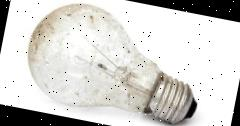lightbulb: (18, 0, 212, 126)
